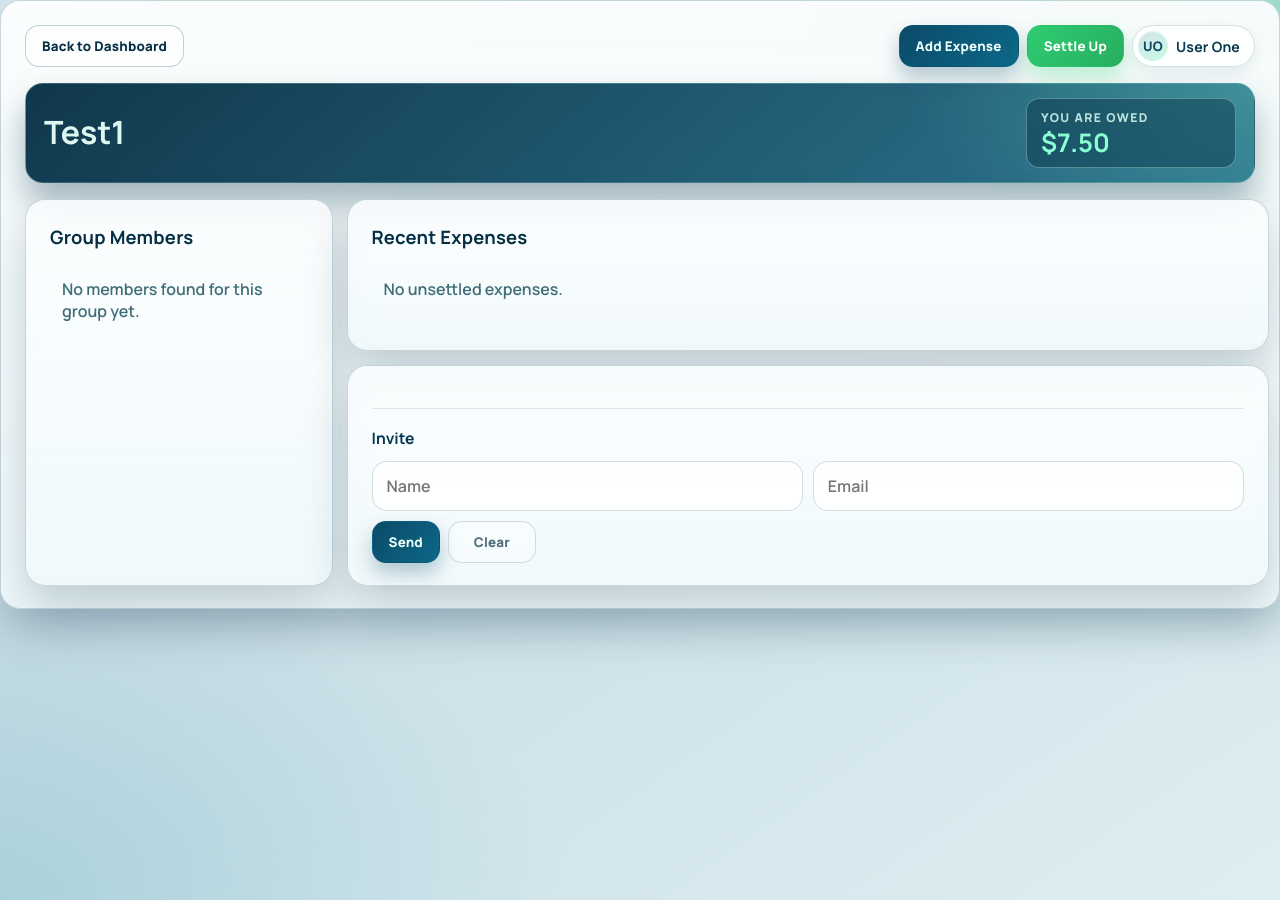
Test: GroupView › renders Leave Group button disabled for the group owner
Click the button with aria-label "Group actions for" at (1194, 46), box [1132,25,1255,67]
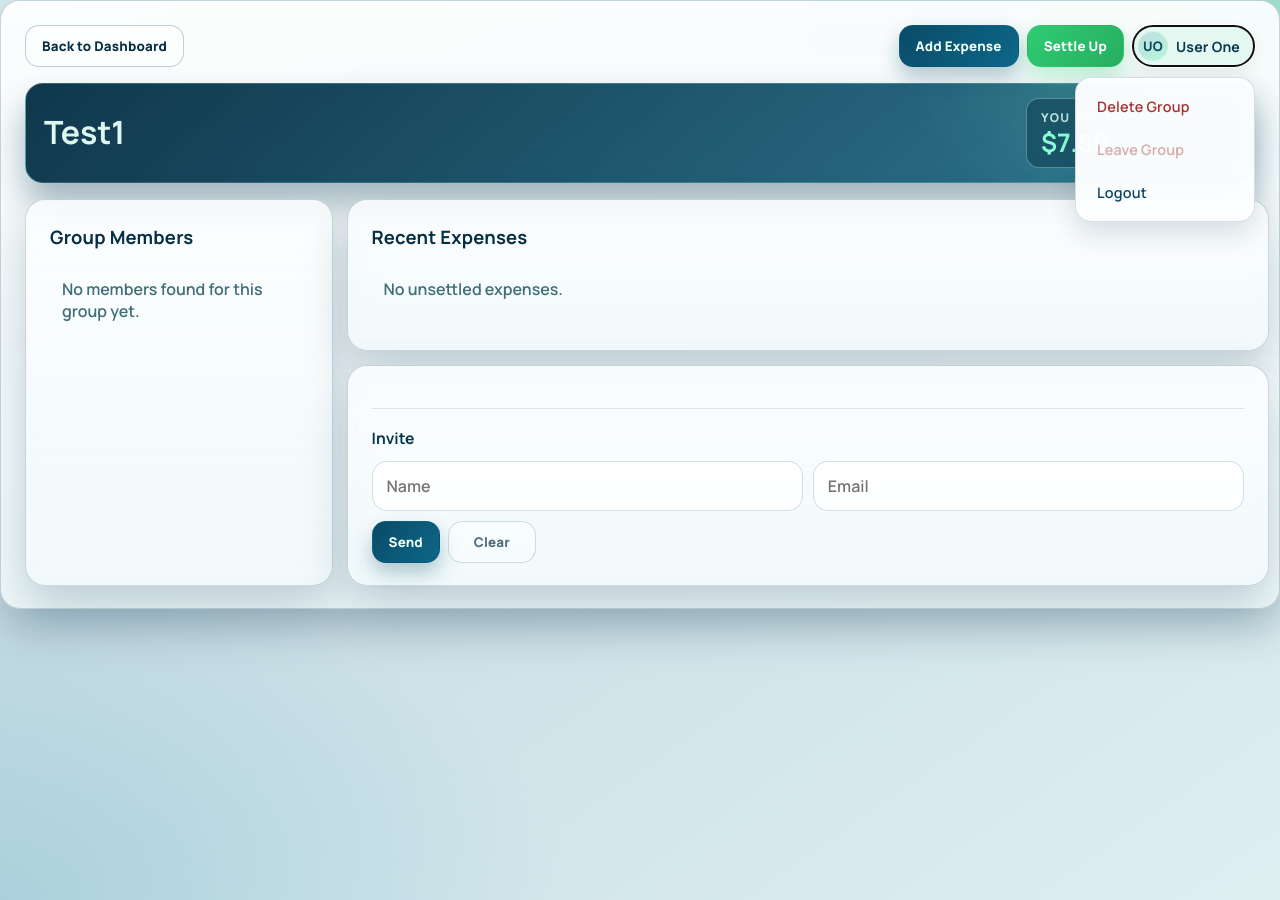
Expected: the menu item "Leave Group" is disabled, [1084,129,1246,170]
